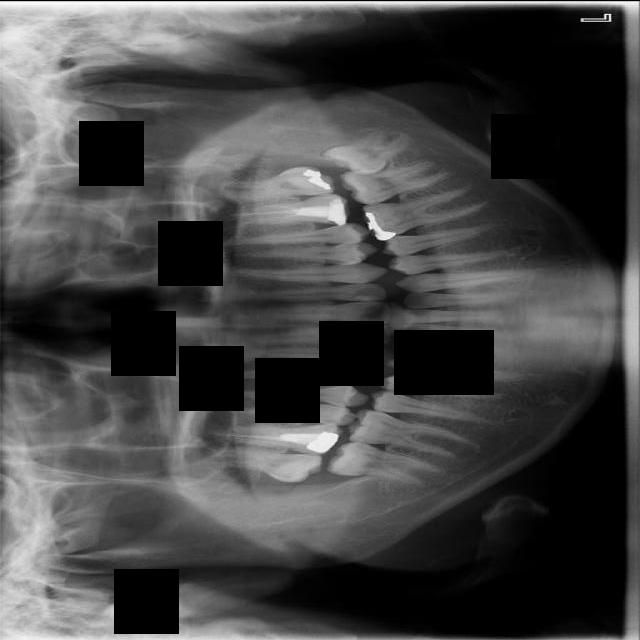52: (358, 195, 409, 244), (278, 162, 337, 198), (303, 188, 353, 227), (287, 422, 344, 455)
73: (223, 197, 320, 231), (206, 418, 298, 449), (617, 10, 623, 20)
BioHorizons Implant: (201, 161, 336, 209)
Biomet 3i Implant: (320, 116, 417, 189)
Blue Sky Bio Implant: (339, 157, 455, 208)
Caries: (200, 440, 325, 486)
Implant: (325, 437, 445, 489)
